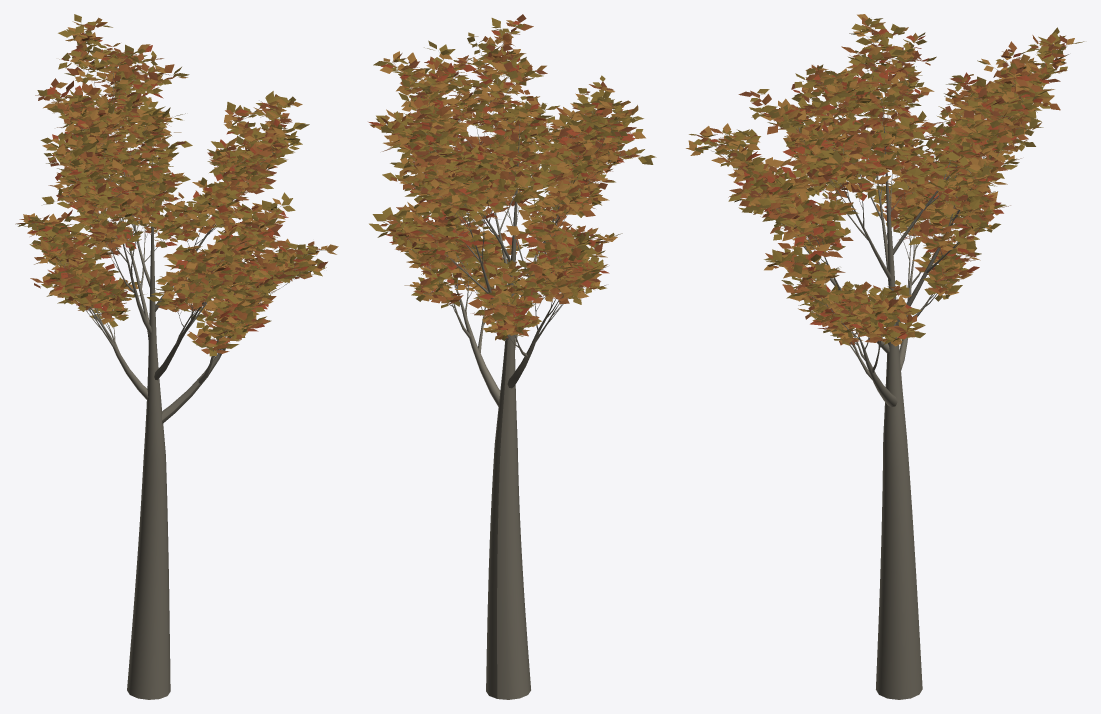
The model's file is autumntree_01.glb.
3 renders of one model, left to right at view 1: azimuth 30°, elevation 25°; view 2: azimuth 150°, elevation 25°; view 3: azimuth 270°, elevation 25°, orthographic. The views are drawn at different scales.
Visible parts, largest first — view 1: AutumnTree_01_leaf_clusters, AutumnTree_01_trunk_branches; view 2: AutumnTree_01_leaf_clusters, AutumnTree_01_trunk_branches; view 3: AutumnTree_01_leaf_clusters, AutumnTree_01_trunk_branches.
Boxes of the visible parts, x1,y1,x2,y2 form: AutumnTree_01_leaf_clusters: [15, 14, 338, 356]; AutumnTree_01_trunk_branches: [32, 27, 325, 699]; AutumnTree_01_leaf_clusters: [368, 14, 656, 340]; AutumnTree_01_trunk_branches: [389, 27, 642, 699]; AutumnTree_01_leaf_clusters: [686, 14, 1084, 346]; AutumnTree_01_trunk_branches: [699, 27, 1066, 699].
Bounding box in the file's own units: 3.2 × 7.01 × 3.86.
